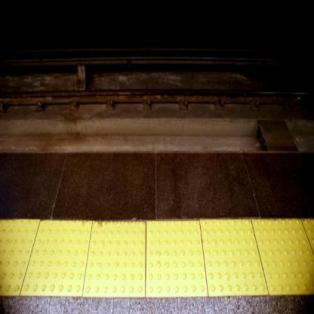Podoctatil: (0, 185, 314, 314)
